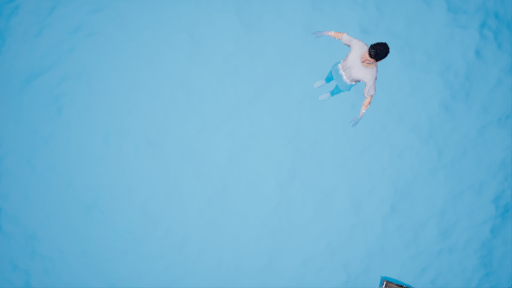person: (312, 27, 388, 134)
